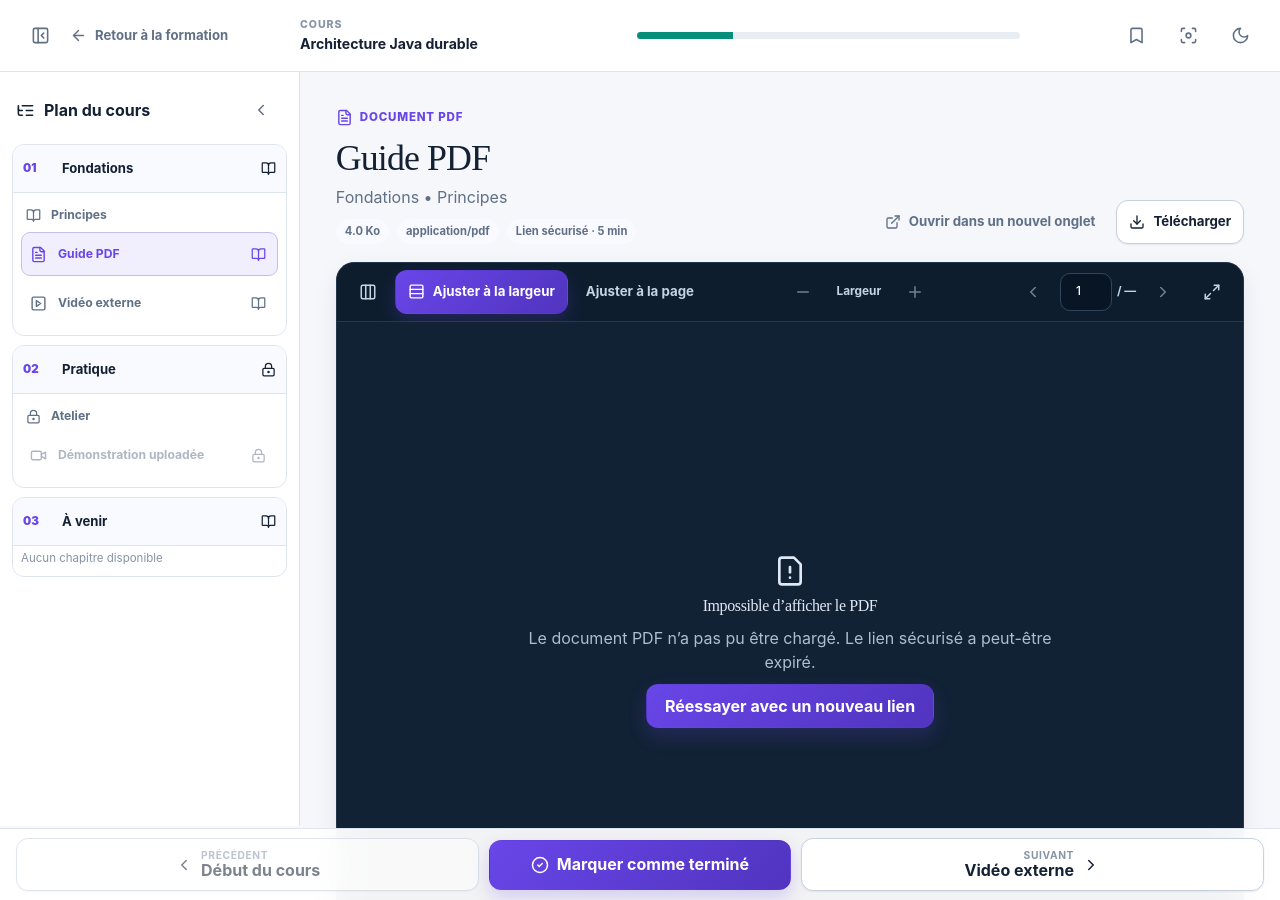
Test: lecteur de cours › déverrouille la ressource suivante après validation du chapitre
The image size is (1280, 900).
Check: the heading "Guide PDF" is shown, box [336,138,490,178]
Click the button "Suivant Vidéo externe" at [1032, 864], box [801,838,1264,891]
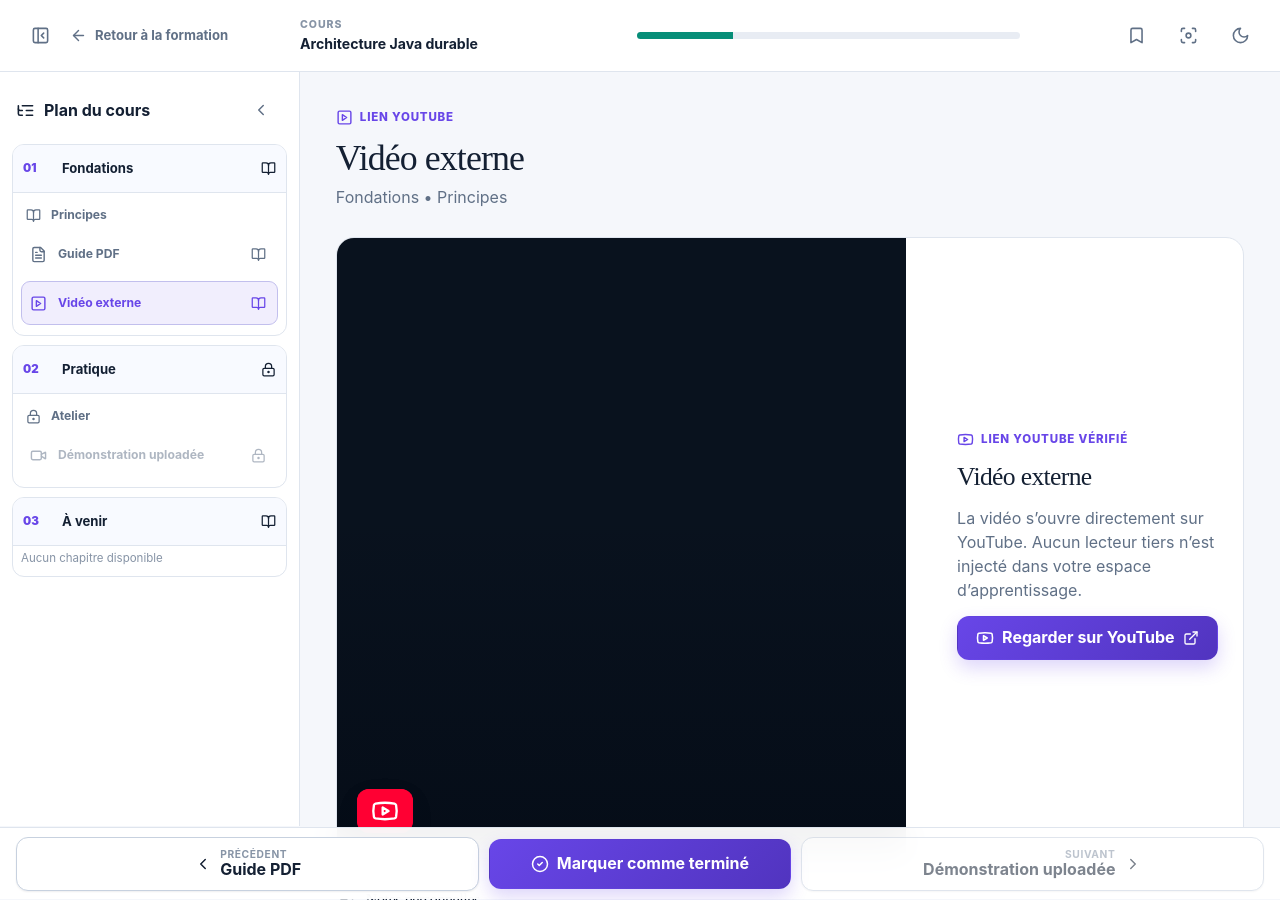
Check: the button "Suivant Démonstration uploadée" is disabled, box [801,838,1264,891]
Click the button "Marquer comme terminé" at [640, 864], box [489,839,791,889]
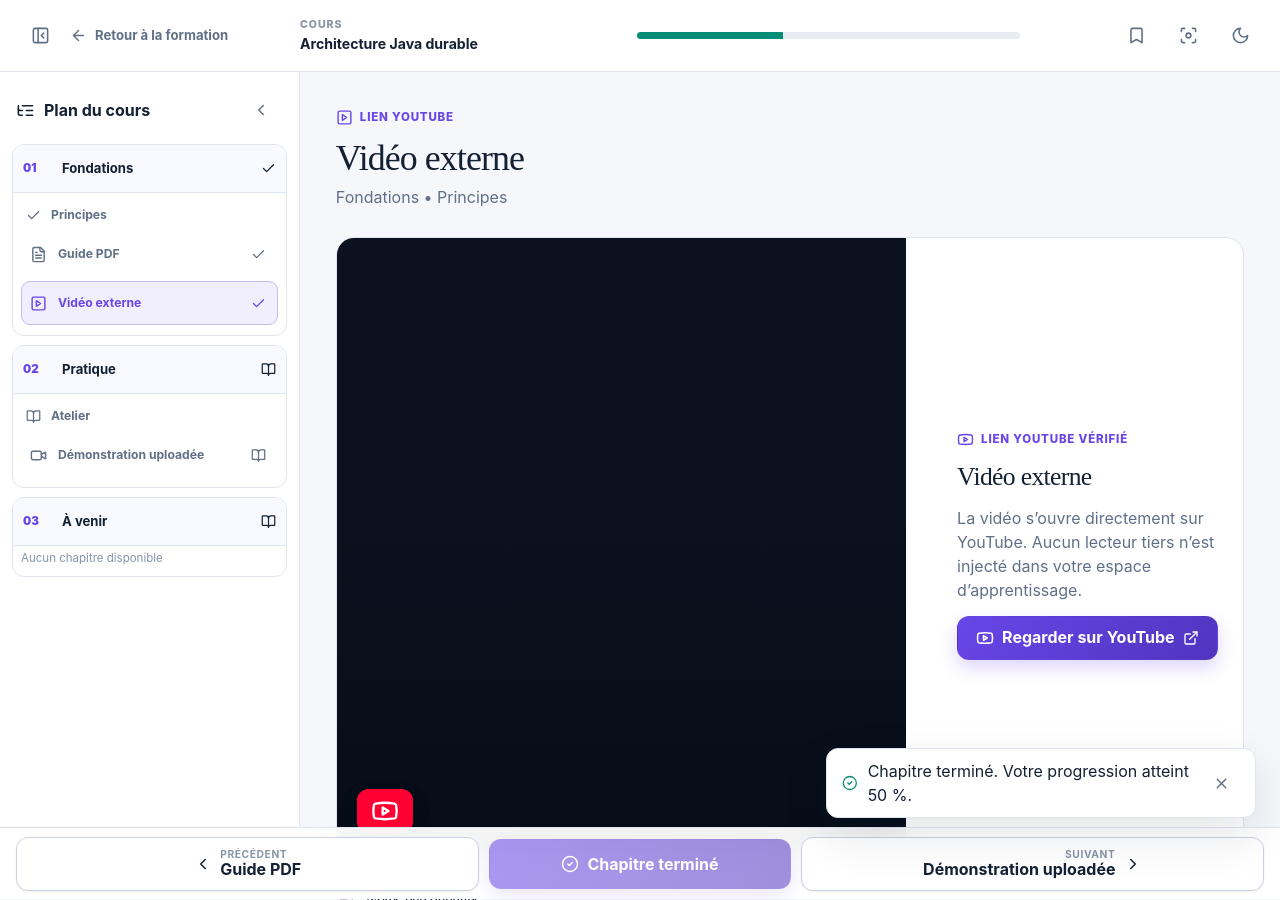
Check: the button "Suivant Démonstration uploadée" is enabled, box [801,838,1264,891]
